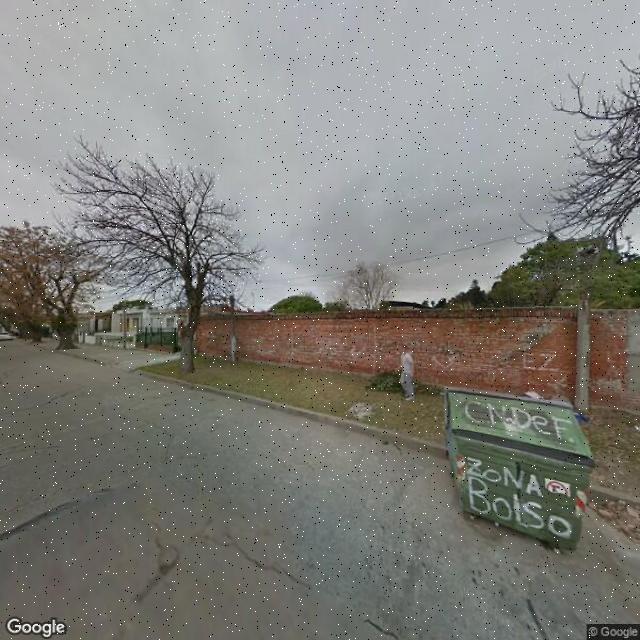garbage container: (424, 371, 607, 568)
